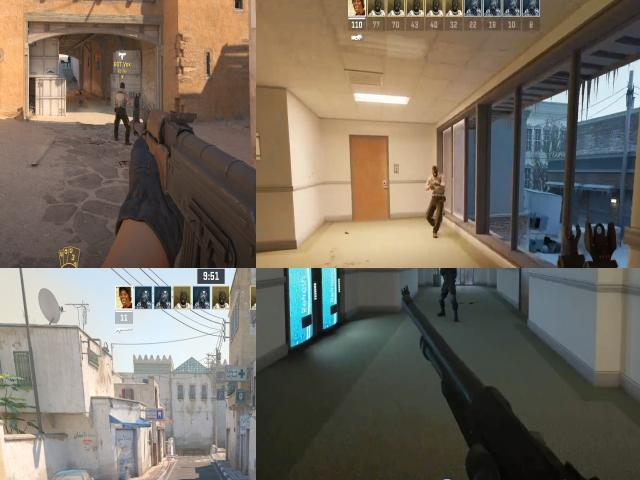CT: (437, 268, 458, 318), (67, 55, 72, 68)
CT-Head: (68, 55, 70, 58)
Dead: (79, 98, 87, 107), (71, 75, 79, 83), (75, 89, 83, 96), (61, 60, 68, 64)
T: (115, 81, 128, 143), (430, 166, 443, 180)
T-Head: (426, 163, 446, 212), (120, 82, 125, 91)
